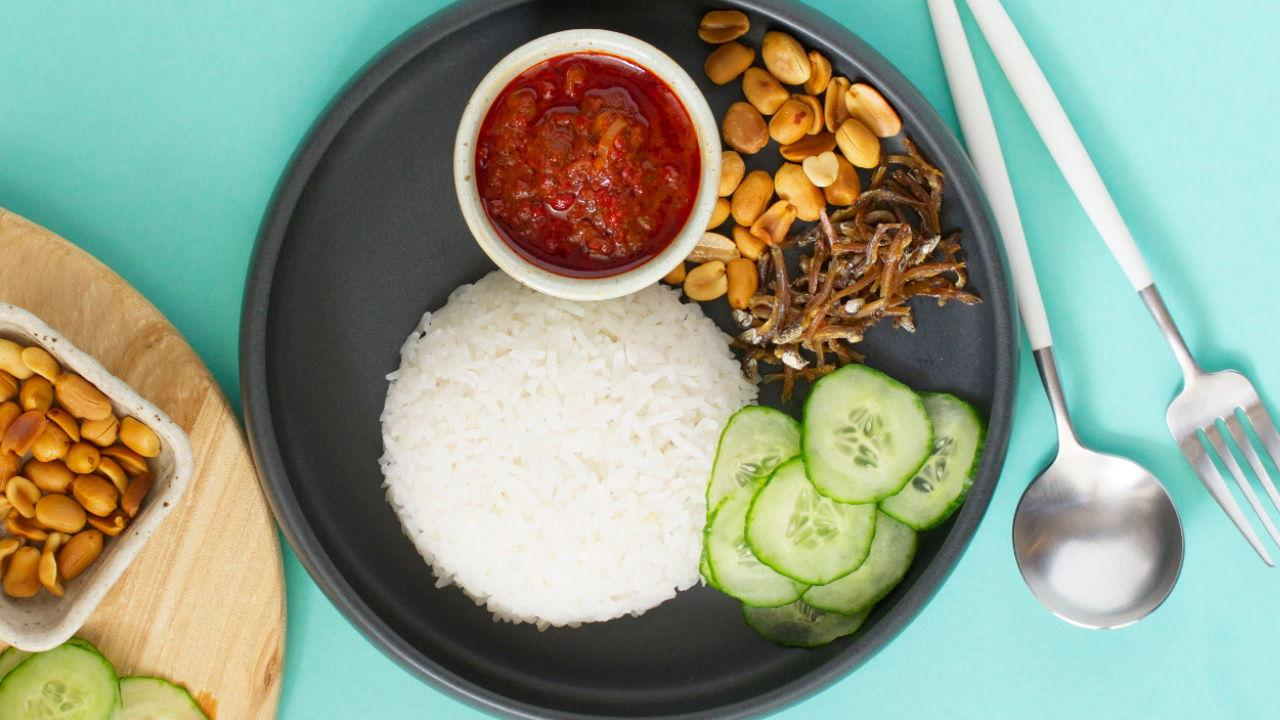Anchovies: (730, 136, 983, 407)
Cucumber: (702, 368, 984, 648), (0, 642, 210, 720)
Peanuts: (664, 4, 903, 310), (0, 340, 150, 602)
Rice: (381, 271, 759, 630)
Sambal: (484, 58, 700, 265)
